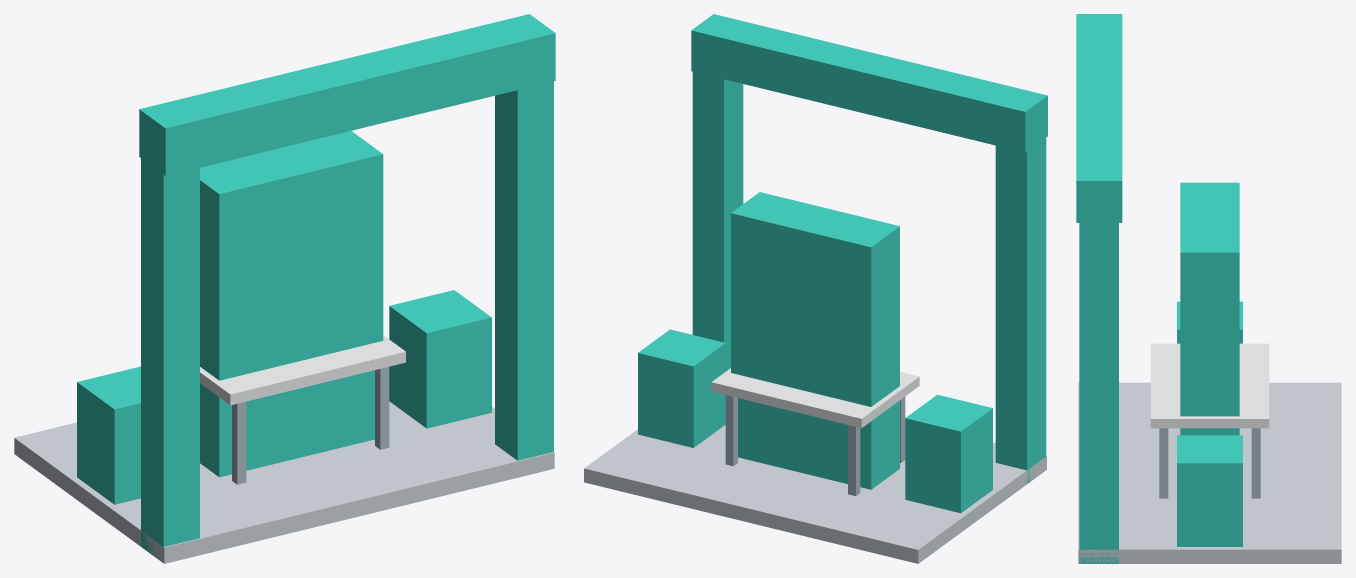
The picture shows the model from 3 angles, left to right: view 1: azimuth 30°, elevation 25°; view 2: azimuth 150°, elevation 25°; view 3: azimuth 270°, elevation 25°; orthographic projection. The views are drawn at different scales.
Visible parts, largest first — view 1: Exhibition Booth Concept; view 2: Exhibition Booth Concept; view 3: Exhibition Booth Concept.
Part boxes in pixels (x1=…): Exhibition Booth Concept: x1=14, y1=14, x2=555, y2=563; Exhibition Booth Concept: x1=584, y1=14, x2=1047, y2=563; Exhibition Booth Concept: x1=1076, y1=14, x2=1341, y2=563.
Bounding box in the file's own units: 3 × 3.2 × 2.01.
